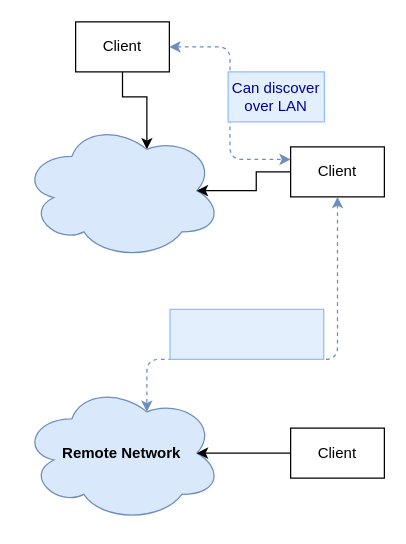
This 406x544 diagram has some shape labels left out. Here are the shapes that lost their labels. From the top down, the centre of each, then its label:
the point at 121,190: Local Network
the point at 246,333: Can discover against configured remotes
